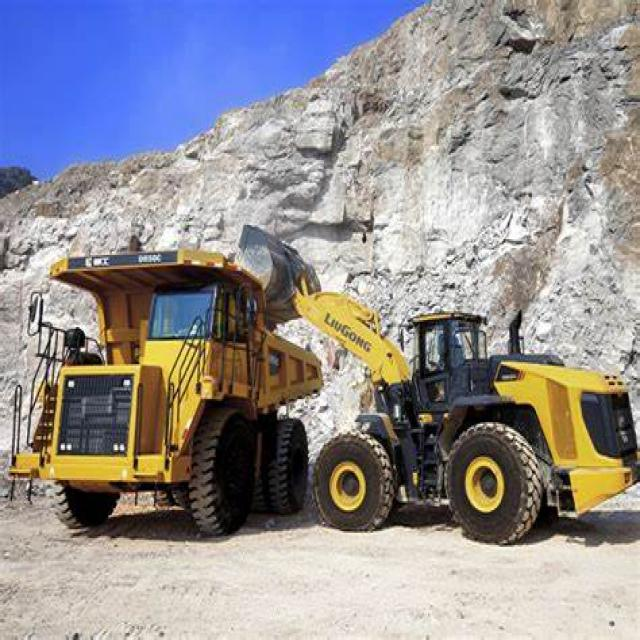buldozerpayloadergrader: (228, 213, 636, 547)
dump_truck: (4, 237, 323, 554)
